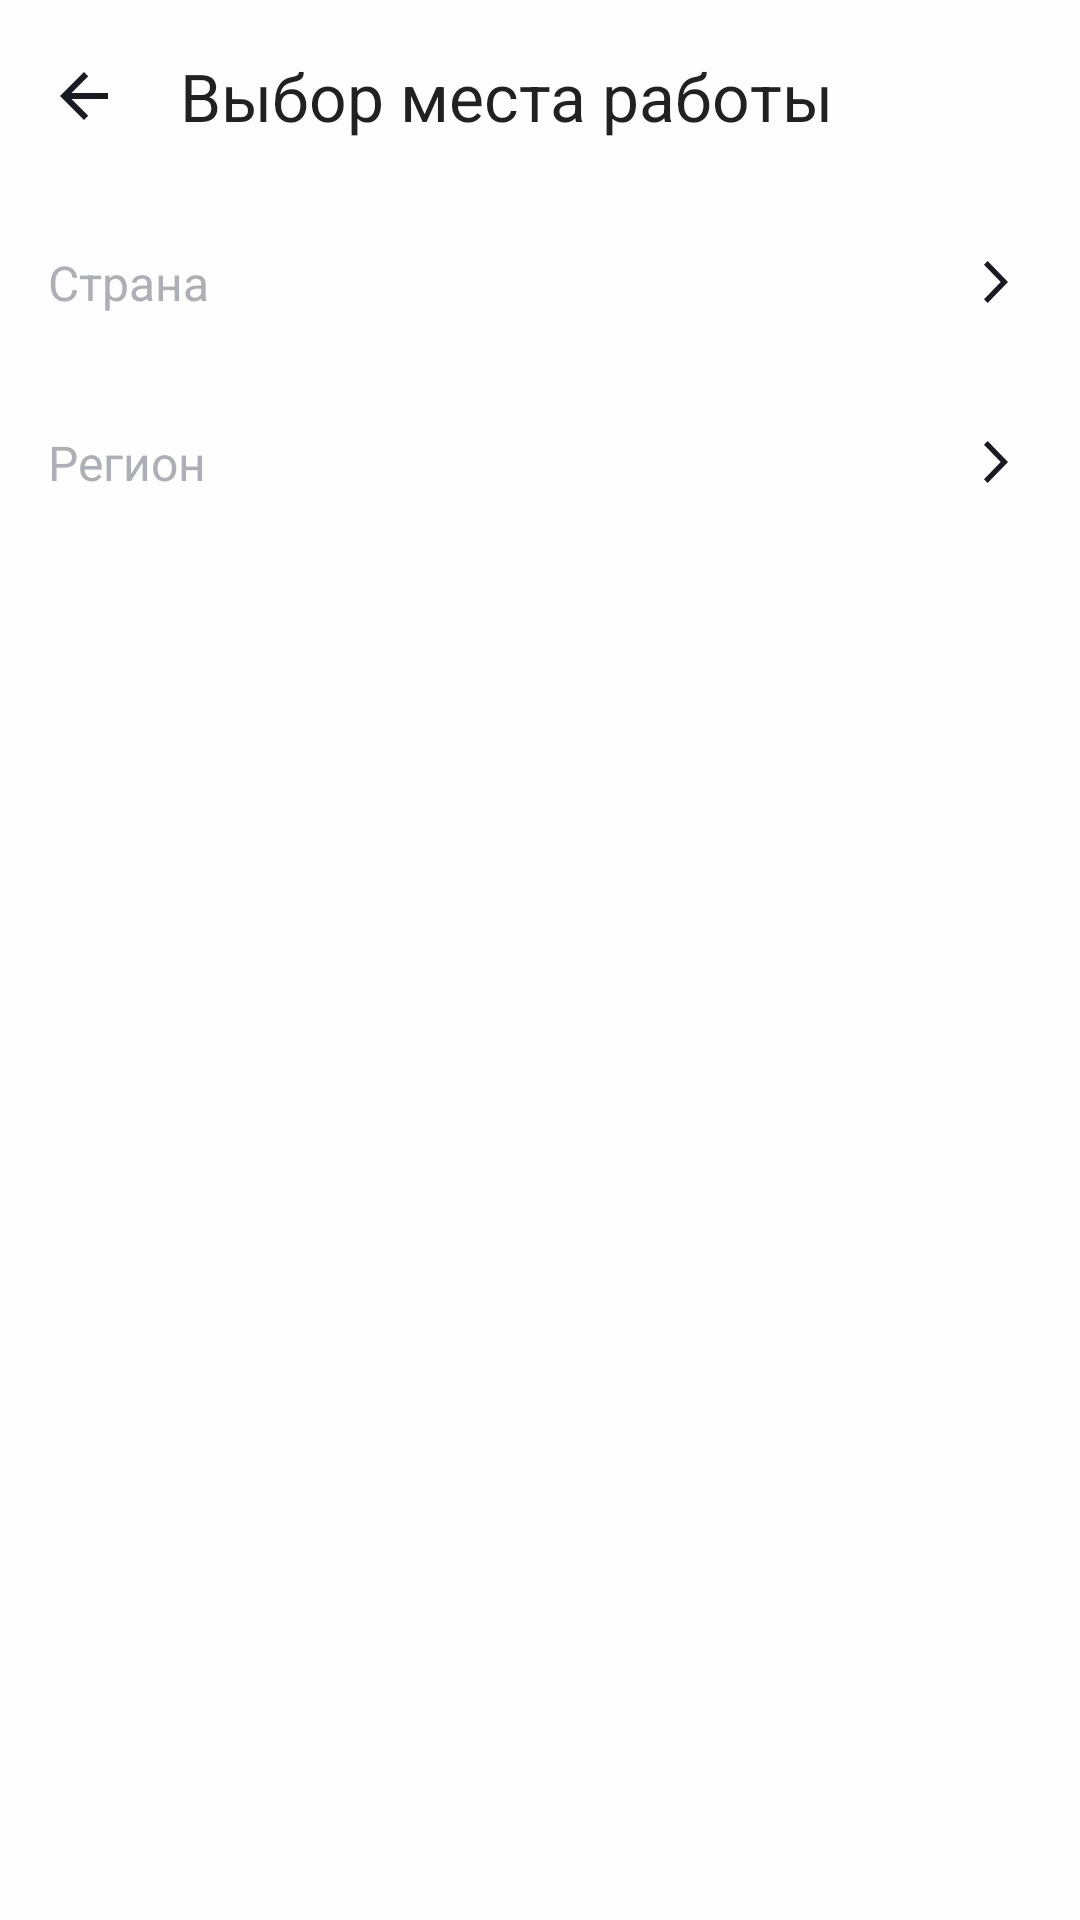

Point at icon controls on the screen. Image size 1080px x 1920px, points as point (x, y).
arrow forward: point (996, 282), point (996, 462)
